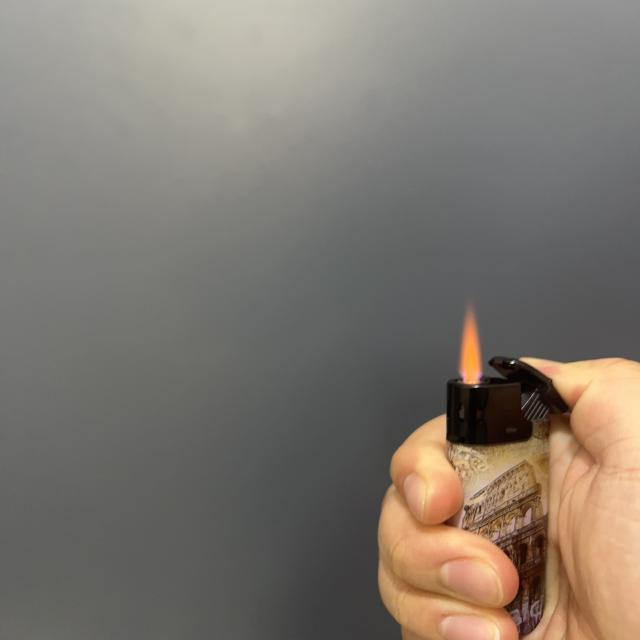fire: (456, 306, 486, 380)
